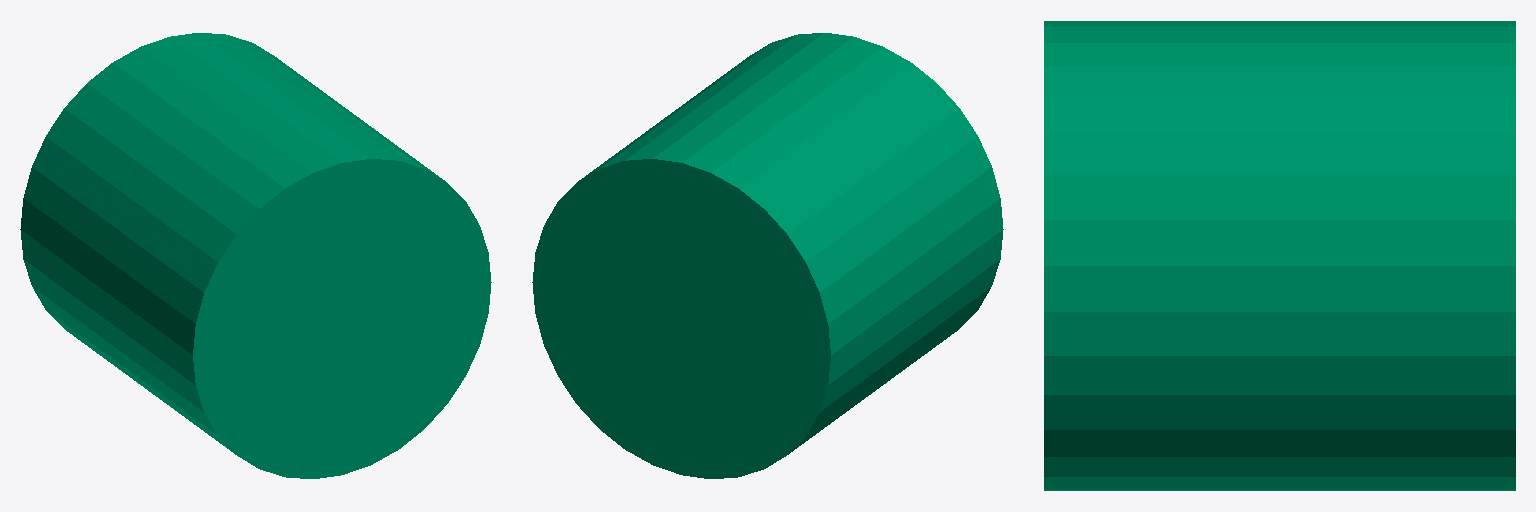
robot.urdf — ur3_with_vacuum_gripper:
<?xml version="1.0" ?>
<!-- =================================================================================== -->
<!-- |    This document was autogenerated by xacro from ur3_with_vacuum_gripper.xacro  | -->
<!-- |    EDITING THIS FILE BY HAND IS NOT RECOMMENDED                                 | -->
<!-- =================================================================================== -->
<robot name="ur3_with_vacuum_gripper">
  <!--
  Author: [author]
-->
  <!-- measured from model -->
  <link name="base_link">
    <visual>
      <geometry>
        <mesh filename="package://ur_description/meshes/ur3/visual/base.dae"/>
      </geometry>
      <material name="LightGrey">
        <color rgba="0.7 0.7 0.7 1.0"/>
      </material>
    </visual>
    <collision>
      <geometry>
        <mesh filename="package://ur_description/meshes/ur3/collision/base.stl"/>
      </geometry>
    </collision>
    <inertial>
      <mass value="2.0"/>
      <origin rpy="0 0 0" xyz="0.0 0.0 0.0"/>
      <inertia ixx="0.0030531654454" ixy="0.0" ixz="0.0" iyy="0.0030531654454" iyz="0.0" izz="0.005625"/>
    </inertial>
  </link>
  <joint name="shoulder_pan_joint" type="revolute">
    <parent link="base_link"/>
    <child link="shoulder_link"/>
    <origin rpy="0.0 0.0 0.0" xyz="0.0 0.0 0.1519"/>
    <axis xyz="0 0 1"/>
    <limit effort="330.0" lower="-3.141592653589793" upper="3.141592653589793" velocity="2.16"/>
    <dynamics damping="0.0" friction="0.0"/>
  </joint>
  <link name="shoulder_link">
    <visual>
      <geometry>
        <mesh filename="package://ur_description/meshes/ur3/visual/shoulder.dae"/>
      </geometry>
      <material name="LightGrey">
        <color rgba="0.7 0.7 0.7 1.0"/>
      </material>
    </visual>
    <collision>
      <geometry>
        <mesh filename="package://ur_description/meshes/ur3/collision/shoulder.stl"/>
      </geometry>
    </collision>
    <inertial>
      <mass value="2.0"/>
      <origin rpy="0 0 0" xyz="0.0 0.0 0.0"/>
      <inertia ixx="0.008093163429399999" ixy="0.0" ixz="0.0" iyy="0.008093163429399999" iyz="0.0" izz="0.005625"/>
    </inertial>
  </link>
  <joint name="shoulder_lift_joint" type="revolute">
    <parent link="shoulder_link"/>
    <child link="upper_arm_link"/>
    <origin rpy="0.0 1.5707963267948966 0.0" xyz="0.0 0.1198 0.0"/>
    <axis xyz="0 1 0"/>
    <limit effort="330.0" lower="-3.141592653589793" upper="3.141592653589793" velocity="2.16"/>
    <dynamics damping="0.0" friction="0.0"/>
  </joint>
  <link name="upper_arm_link">
    <visual>
      <geometry>
        <mesh filename="package://ur_description/meshes/ur3/visual/upperarm.dae"/>
      </geometry>
      <material name="LightGrey">
        <color rgba="0.7 0.7 0.7 1.0"/>
      </material>
    </visual>
    <collision>
      <geometry>
        <mesh filename="package://ur_description/meshes/ur3/collision/upperarm.stl"/>
      </geometry>
    </collision>
    <inertial>
      <mass value="3.42"/>
      <origin rpy="0 0 0" xyz="0.0 0.0 0.121825"/>
      <inertia ixx="0.021728483221103233" ixy="0.0" ixz="0.0" iyy="0.021728483221103233" iyz="0.0" izz="0.00961875"/>
    </inertial>
  </link>
  <joint name="elbow_joint" type="revolute">
    <parent link="upper_arm_link"/>
    <child link="forearm_link"/>
    <origin rpy="0.0 0.0 0.0" xyz="0.0 -0.0925 0.24365"/>
    <axis xyz="0 1 0"/>
    <limit effort="150.0" lower="-3.141592653589793" upper="3.141592653589793" velocity="3.15"/>
    <dynamics damping="0.0" friction="0.0"/>
  </joint>
  <link name="forearm_link">
    <visual>
      <geometry>
        <mesh filename="package://ur_description/meshes/ur3/visual/forearm.dae"/>
      </geometry>
      <material name="LightGrey">
        <color rgba="0.7 0.7 0.7 1.0"/>
      </material>
    </visual>
    <collision>
      <geometry>
        <mesh filename="package://ur_description/meshes/ur3/collision/forearm.stl"/>
      </geometry>
    </collision>
    <inertial>
      <mass value="1.26"/>
      <origin rpy="0 0 0" xyz="0.0 0.0 0.106625"/>
      <inertia ixx="0.006546806443776375" ixy="0.0" ixz="0.0" iyy="0.006546806443776375" iyz="0.0" izz="0.00354375"/>
    </inertial>
  </link>
  <joint name="wrist_1_joint" type="revolute">
    <parent link="forearm_link"/>
    <child link="wrist_1_link"/>
    <origin rpy="0.0 1.5707963267948966 0.0" xyz="0.0 0.0 0.21325"/>
    <axis xyz="0 1 0"/>
    <limit effort="54.0" lower="-3.141592653589793" upper="3.141592653589793" velocity="3.2"/>
    <dynamics damping="0.0" friction="0.0"/>
  </joint>
  <link name="wrist_1_link">
    <visual>
      <geometry>
        <mesh filename="package://ur_description/meshes/ur3/visual/wrist1.dae"/>
      </geometry>
      <material name="LightGrey">
        <color rgba="0.7 0.7 0.7 1.0"/>
      </material>
    </visual>
    <collision>
      <geometry>
        <mesh filename="package://ur_description/meshes/ur3/collision/wrist1.stl"/>
      </geometry>
    </collision>
    <inertial>
      <mass value="0.8"/>
      <origin rpy="0 0 0" xyz="0.0 0.08505 0.0"/>
      <inertia ixx="0.002084999166" ixy="0.0" ixz="0.0" iyy="0.002084999166" iyz="0.0" izz="0.00225"/>
    </inertial>
  </link>
  <joint name="wrist_2_joint" type="revolute">
    <parent link="wrist_1_link"/>
    <child link="wrist_2_link"/>
    <origin rpy="0.0 0.0 0.0" xyz="0.0 0.08505 0.0"/>
    <axis xyz="0 0 1"/>
    <limit effort="54.0" lower="-3.141592653589793" upper="3.141592653589793" velocity="3.2"/>
    <dynamics damping="0.0" friction="0.0"/>
  </joint>
  <link name="wrist_2_link">
    <visual>
      <geometry>
        <mesh filename="package://ur_description/meshes/ur3/visual/wrist2.dae"/>
      </geometry>
      <material name="LightGrey">
        <color rgba="0.7 0.7 0.7 1.0"/>
      </material>
    </visual>
    <collision>
      <geometry>
        <mesh filename="package://ur_description/meshes/ur3/collision/wrist2.stl"/>
      </geometry>
    </collision>
    <inertial>
      <mass value="0.8"/>
      <origin rpy="0 0 0" xyz="0.0 0.0 0.08535"/>
      <inertia ixx="0.002084999166" ixy="0.0" ixz="0.0" iyy="0.002084999166" iyz="0.0" izz="0.00225"/>
    </inertial>
  </link>
  <joint name="wrist_3_joint" type="revolute">
    <parent link="wrist_2_link"/>
    <child link="wrist_3_link"/>
    <origin rpy="0.0 0.0 0.0" xyz="0.0 0.0 0.08535"/>
    <axis xyz="0 1 0"/>
    <limit effort="54.0" lower="-3.141592653589793" upper="3.141592653589793" velocity="3.2"/>
    <dynamics damping="0.0" friction="0.0"/>
  </joint>
  <link name="wrist_3_link">
    <visual>
      <geometry>
        <mesh filename="package://ur_description/meshes/ur3/visual/wrist3.dae"/>
      </geometry>
      <material name="LightGrey">
        <color rgba="0.7 0.7 0.7 1.0"/>
      </material>
    </visual>
    <collision>
      <geometry>
        <mesh filename="package://ur_description/meshes/ur3/collision/wrist3.stl"/>
      </geometry>
    </collision>
    <inertial>
      <mass value="0.35"/>
      <origin rpy="1.5707963267948966 0 0" xyz="0.0 0.0619 0.0"/>
      <inertia ixx="0.00013626661215999998" ixy="0.0" ixz="0.0" iyy="0.00013626661215999998" iyz="0.0" izz="0.0001792"/>
    </inertial>
  </link>
  <joint name="ee_fixed_joint" type="fixed">
    <parent link="wrist_3_link"/>
    <child link="ee_link"/>
    <origin rpy="0.0 0.0 1.5707963267948966" xyz="0.0 0.0819 0.0"/>
  </joint>
  <link name="ee_link">
    <collision>
      <geometry>
        <box size="0.01 0.01 0.01"/>
      </geometry>
      <origin rpy="0 0 0" xyz="-0.01 0 0"/>
    </collision>
  </link>
  <transmission name="shoulder_pan_trans">
    <type>transmission_interface/SimpleTransmission</type>
    <joint name="shoulder_pan_joint">
      <hardwareInterface>hardware_interface/PositionJointInterface</hardwareInterface>
    </joint>
    <actuator name="shoulder_pan_motor">
      <mechanicalReduction>1</mechanicalReduction>
    </actuator>
  </transmission>
  <transmission name="shoulder_lift_trans">
    <type>transmission_interface/SimpleTransmission</type>
    <joint name="shoulder_lift_joint">
      <hardwareInterface>hardware_interface/PositionJointInterface</hardwareInterface>
    </joint>
    <actuator name="shoulder_lift_motor">
      <mechanicalReduction>1</mechanicalReduction>
    </actuator>
  </transmission>
  <transmission name="elbow_trans">
    <type>transmission_interface/SimpleTransmission</type>
    <joint name="elbow_joint">
      <hardwareInterface>hardware_interface/PositionJointInterface</hardwareInterface>
    </joint>
    <actuator name="elbow_motor">
      <mechanicalReduction>1</mechanicalReduction>
    </actuator>
  </transmission>
  <transmission name="wrist_1_trans">
    <type>transmission_interface/SimpleTransmission</type>
    <joint name="wrist_1_joint">
      <hardwareInterface>hardware_interface/PositionJointInterface</hardwareInterface>
    </joint>
    <actuator name="wrist_1_motor">
      <mechanicalReduction>1</mechanicalReduction>
    </actuator>
  </transmission>
  <transmission name="wrist_2_trans">
    <type>transmission_interface/SimpleTransmission</type>
    <joint name="wrist_2_joint">
      <hardwareInterface>hardware_interface/PositionJointInterface</hardwareInterface>
    </joint>
    <actuator name="wrist_2_motor">
      <mechanicalReduction>1</mechanicalReduction>
    </actuator>
  </transmission>
  <transmission name="wrist_3_trans">
    <type>transmission_interface/SimpleTransmission</type>
    <joint name="wrist_3_joint">
      <hardwareInterface>hardware_interface/PositionJointInterface</hardwareInterface>
    </joint>
    <actuator name="wrist_3_motor">
      <mechanicalReduction>1</mechanicalReduction>
    </actuator>
  </transmission>
  <gazebo reference="shoulder_link">
    <selfCollide>true</selfCollide>
  </gazebo>
  <gazebo reference="upper_arm_link">
    <selfCollide>true</selfCollide>
  </gazebo>
  <gazebo reference="forearm_link">
    <selfCollide>true</selfCollide>
  </gazebo>
  <gazebo reference="wrist_1_link">
    <selfCollide>true</selfCollide>
  </gazebo>
  <gazebo reference="wrist_3_link">
    <selfCollide>true</selfCollide>
  </gazebo>
  <gazebo reference="wrist_2_link">
    <selfCollide>true</selfCollide>
  </gazebo>
  <gazebo reference="ee_link">
    <selfCollide>true</selfCollide>
  </gazebo>
  <!-- ROS base_link to UR 'Base' Coordinates transform -->
  <link name="base"/>
  <joint name="base_link-base_fixed_joint" type="fixed">
    <!-- NOTE: this rotation is only needed as long as base_link itself is
                 not corrected wrt the real robot (ie: rotated over 180
                 degrees)
      -->
    <origin rpy="0 0 -3.141592653589793" xyz="0 0 0"/>
    <parent link="base_link"/>
    <child link="base"/>
  </joint>
  <!-- Frame coincident with all-zeros TCP on UR controller -->
  <link name="tool0"/>
  <joint name="wrist_3_link-tool0_fixed_joint" type="fixed">
    <origin rpy="-1.5707963267948966 0 0" xyz="0 0.0819 0"/>
    <parent link="wrist_3_link"/>
    <child link="tool0"/>
  </joint>
  <!-- Create a fixed joint with a parameterized name. -->
  <joint name="measurement_tool_joint" type="fixed">
    <!-- The parent link must be read from the robot model it is attached to. -->
    <parent link="tool0"/>
    <child link="vacuum_gripper"/>
    <!-- The tool is directly attached to the flange. -->
    <origin rpy="0 0 0" xyz="0 0 0"/>
  </joint>
  <link name="vacuum_gripper">
    <visual>
      <geometry>
        <!-- The path to the visual meshes in the package. -->
        <!-- <mesh filename="package://ur5_with_measurement_tool/meshes/visual/vacuum_gripper.stl"/> -->
        <cylinder length="0.06" radius="0.03"/>
      </geometry>
    </visual>
    <collision>
      <geometry>
        <!-- The path to the collision meshes in the package. -->
        <!-- <mesh filename="package://ur5_with_measurement_tool/meshes/collision/vacuum_gripper.stl"/> -->
        <cylinder length="0.06" radius="0.03"/>
      </geometry>
    </collision>
  </link>
  <!-- TCP frame -->
  <joint name="tcp_joint" type="fixed">
    <origin rpy="0 0 0" xyz="0 0 0.116"/>
    <parent link="vacuum_gripper"/>
    <child link="tcp"/>
  </joint>
  <link name="tcp"/>
  <!-- define the Ur3's position and orientation in the world coordinate system -->
  <link name="world"/>
  <joint name="world_joint" type="fixed">
    <parent link="world"/>
    <child link="base_link"/>
    <!-- TODO: check base_link name of robot -->
    <origin rpy="0.0 0.0 0.0" xyz="0.0 0.0 0.0"/>
  </joint>
</robot>

--- Facts derived from the render (not from the file) ---
Views: 3 orthographic renders of the robot side by side, from view 1: azimuth 30°, elevation 25°; view 2: azimuth 150°, elevation 25°; view 3: azimuth 270°, elevation 25°.
Robot: ur3_with_vacuum_gripper — 13 links, 12 joints (6 revolute, 6 fixed); root link world; default pose: all joints at 0.
Links seen in each view (by area): view 1: vacuum_gripper; view 2: vacuum_gripper; view 3: vacuum_gripper.
Boxes of the visible links, x1,y1,x2,y2 form: vacuum_gripper: (20, 33, 491, 478); vacuum_gripper: (532, 33, 1003, 478); vacuum_gripper: (1044, 21, 1515, 490).
Size in the robot's own frame: 0.06 by 0.06 by 0.06 metres.
0 mesh visuals loaded from 7 distinct referenced files (none loaded); not drawn: 7 (reference not matched to a file when rendering).